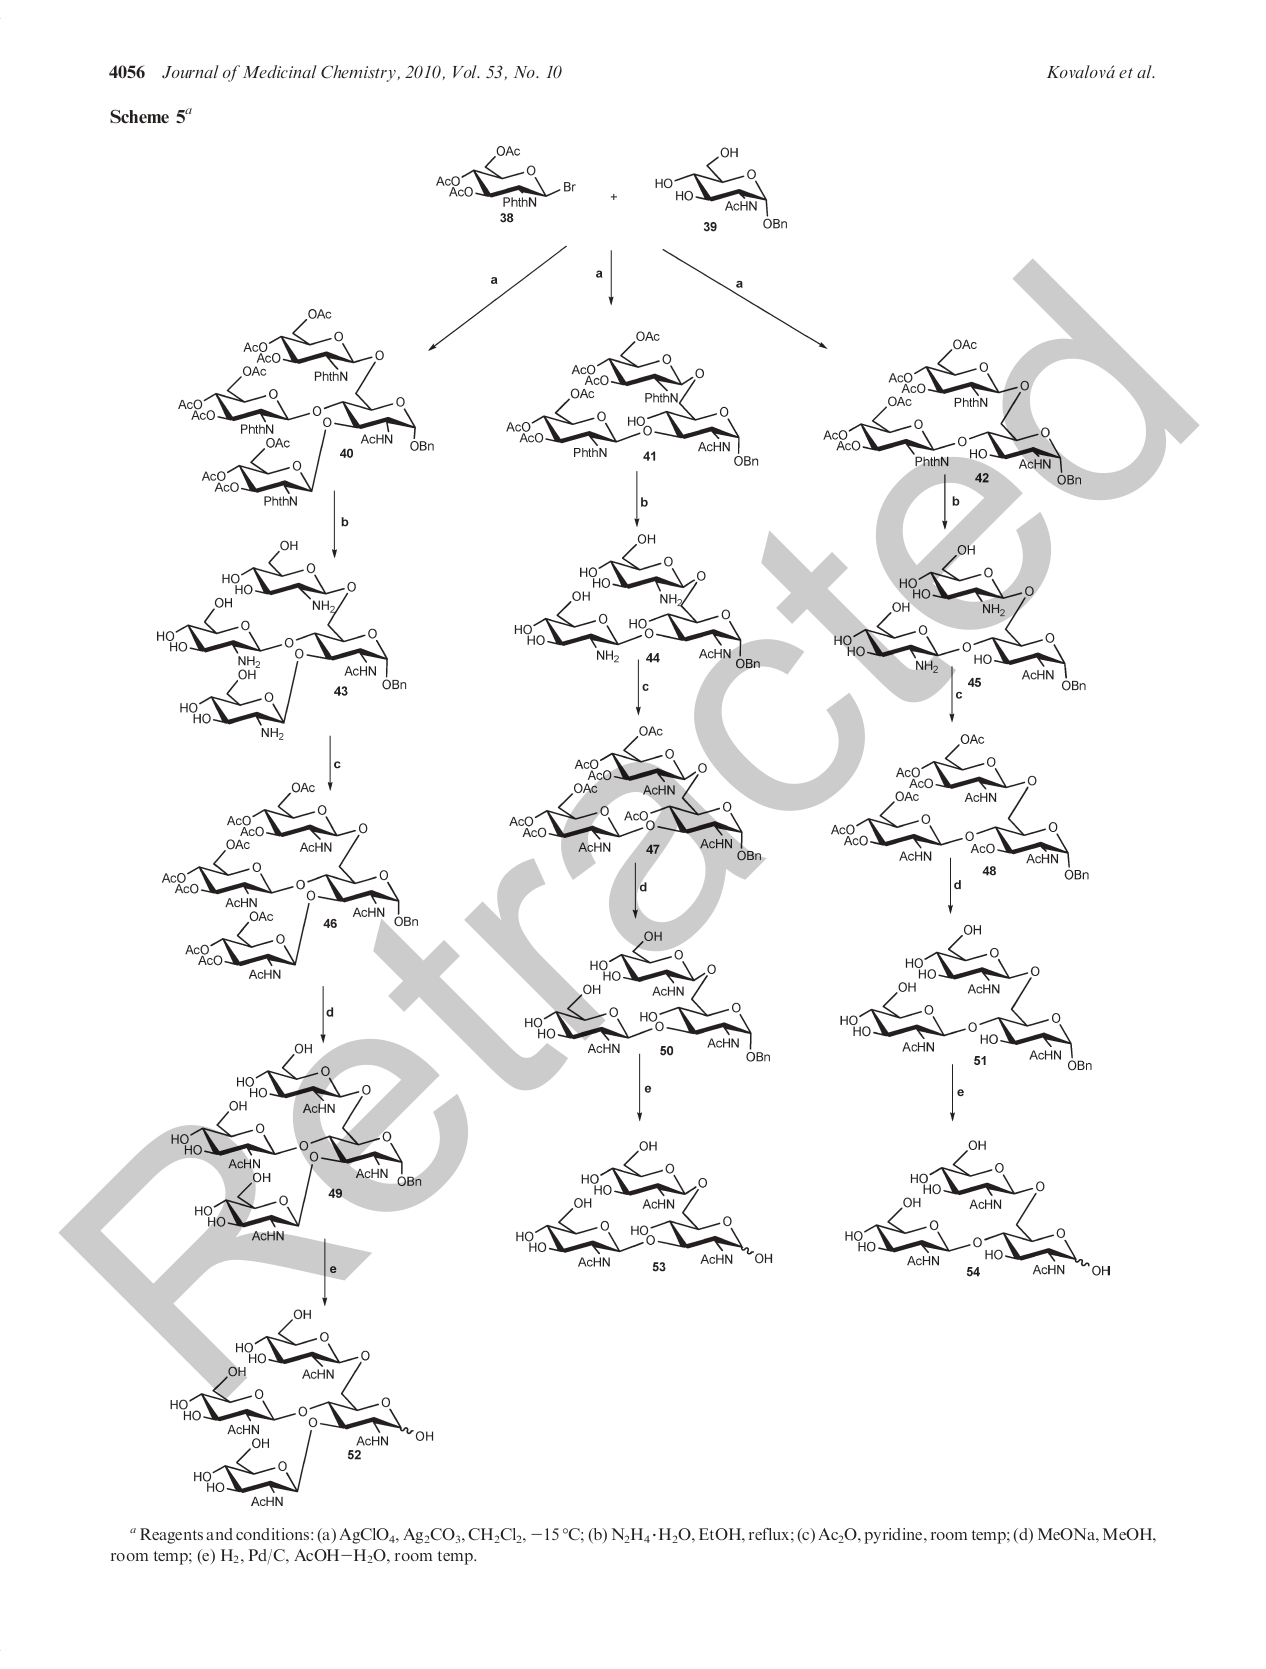exist_molecular: (146, 773, 430, 988), (172, 1305, 449, 1511), (176, 298, 442, 504), (150, 531, 411, 739), (172, 1033, 426, 1243), (839, 1134, 1118, 1293), (836, 918, 1098, 1081), (813, 332, 1081, 491), (832, 540, 1086, 705), (500, 324, 765, 479), (501, 1133, 783, 1277), (832, 731, 1094, 884), (515, 525, 765, 681), (509, 723, 765, 872), (523, 923, 773, 1075), (657, 142, 793, 237), (436, 144, 574, 211)
